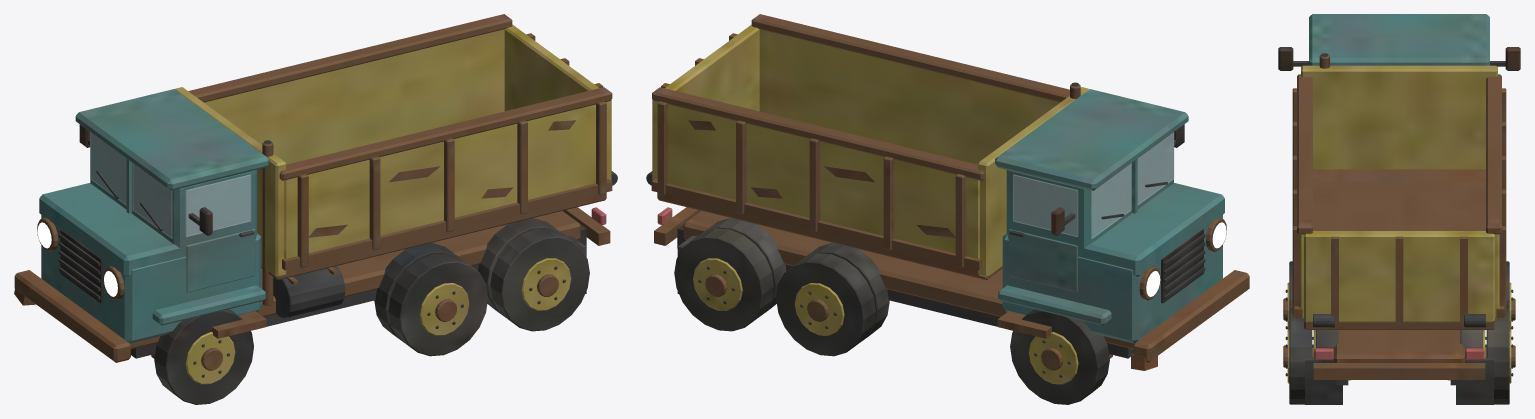
The model's file is CS13_dump_truck.glb.
3 renders of one model, left to right at view 1: azimuth 30°, elevation 25°; view 2: azimuth 150°, elevation 25°; view 3: azimuth 270°, elevation 25°, orthographic. The views are drawn at different scales.
Parts seen in each view (by area): view 1: Ladder chassis; view 2: Ladder chassis; view 3: Ladder chassis.
Part boxes in pixels (box(x1,y1,x2,y2)): Ladder chassis: box(14, 14, 617, 404); Ladder chassis: box(646, 14, 1249, 404); Ladder chassis: box(1278, 14, 1520, 404).
Bounding box in the file's own units: 7 × 3.14 × 3.05.
Materials: 9 (7 with a texture image).
